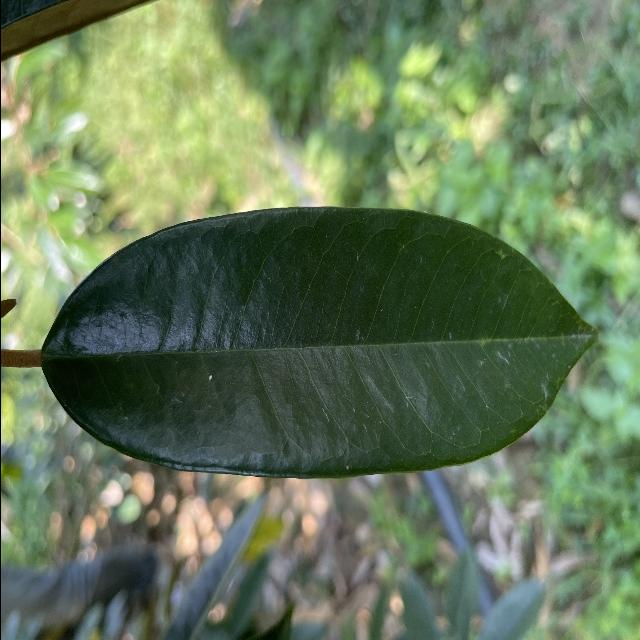No Disease: (25, 201, 609, 493)
